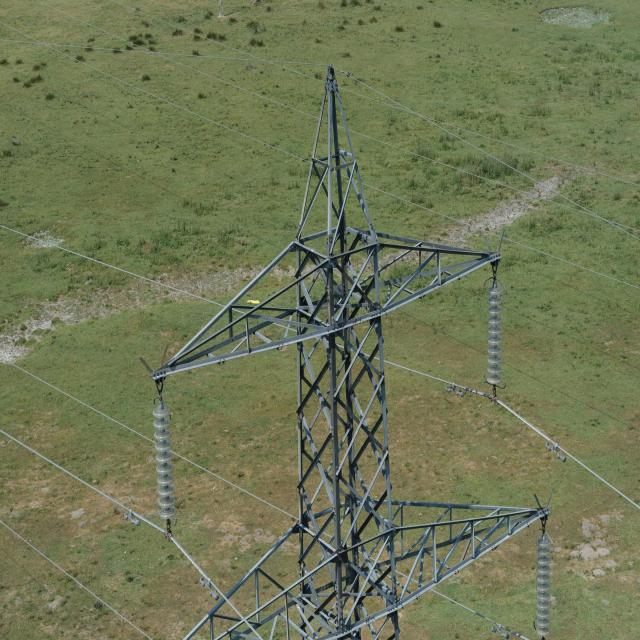direk: (160, 81, 496, 640)
